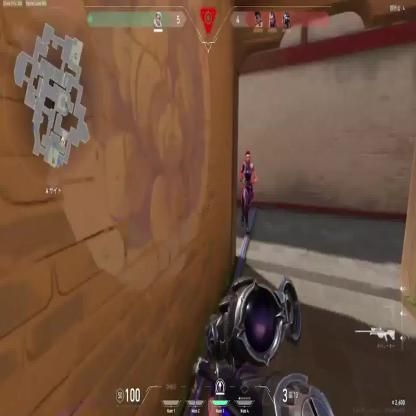enemy: (238, 150, 258, 233)
enemy_head: (244, 150, 252, 164)
